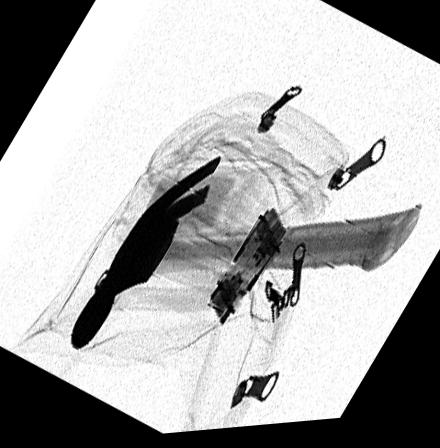Hammer: (69, 158, 421, 352)
